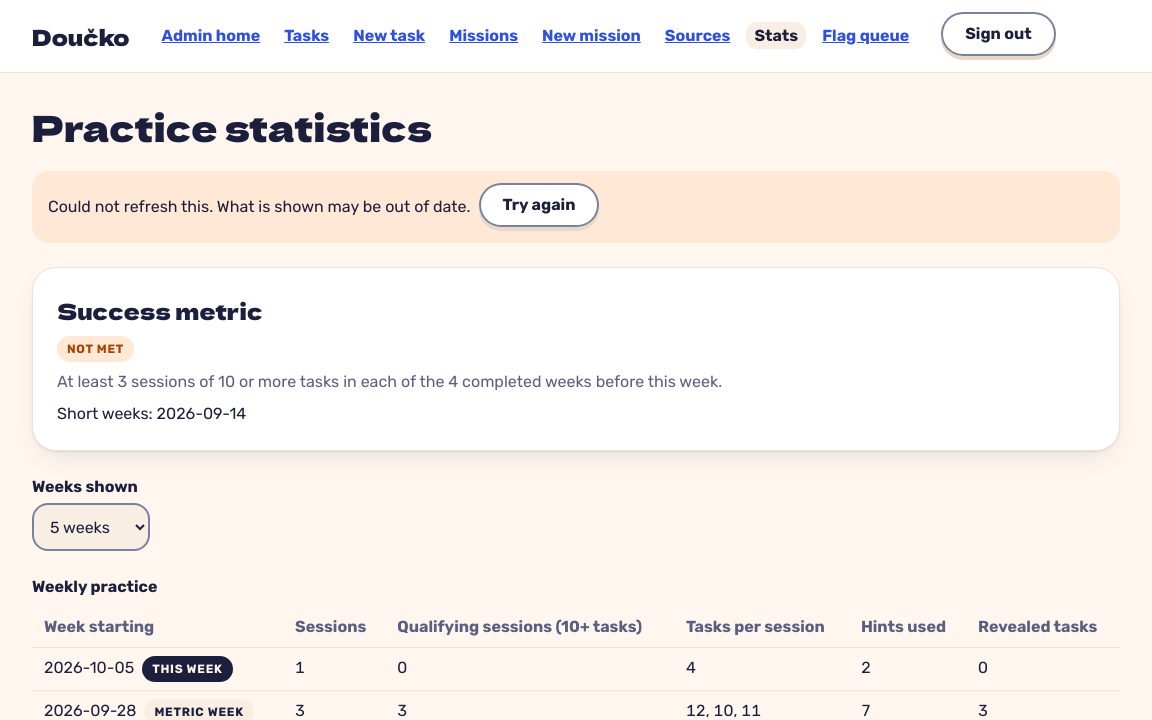
Test: stats page (FR-40) › keeps the figures shown when a background refresh fails, says they may be out of date, and retries (review F05)
The width and height of the screenshot is (1152, 720).
Expected: the text "Could not refresh this. What is shown may be out of date." is shown, 48,195 -> 470,219
Click the button "Try again": (539, 205) 478,183 -> 599,227
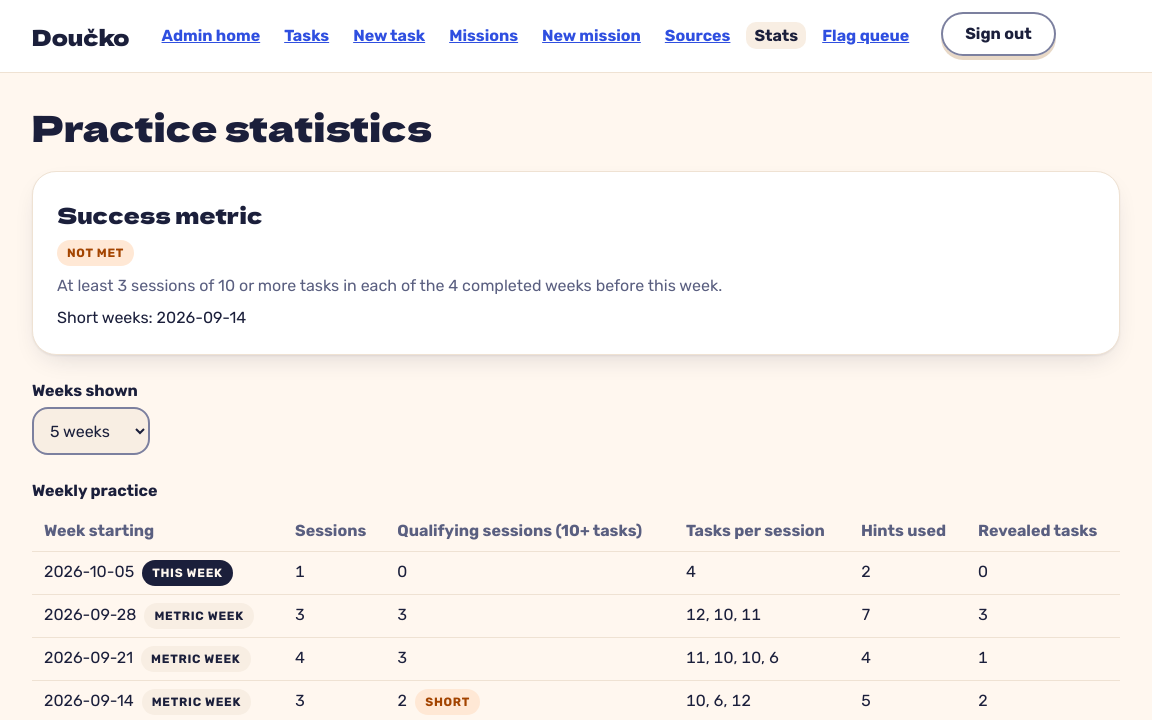
Result: the text "Could not refresh this. What is shown may be out of date." is gone
